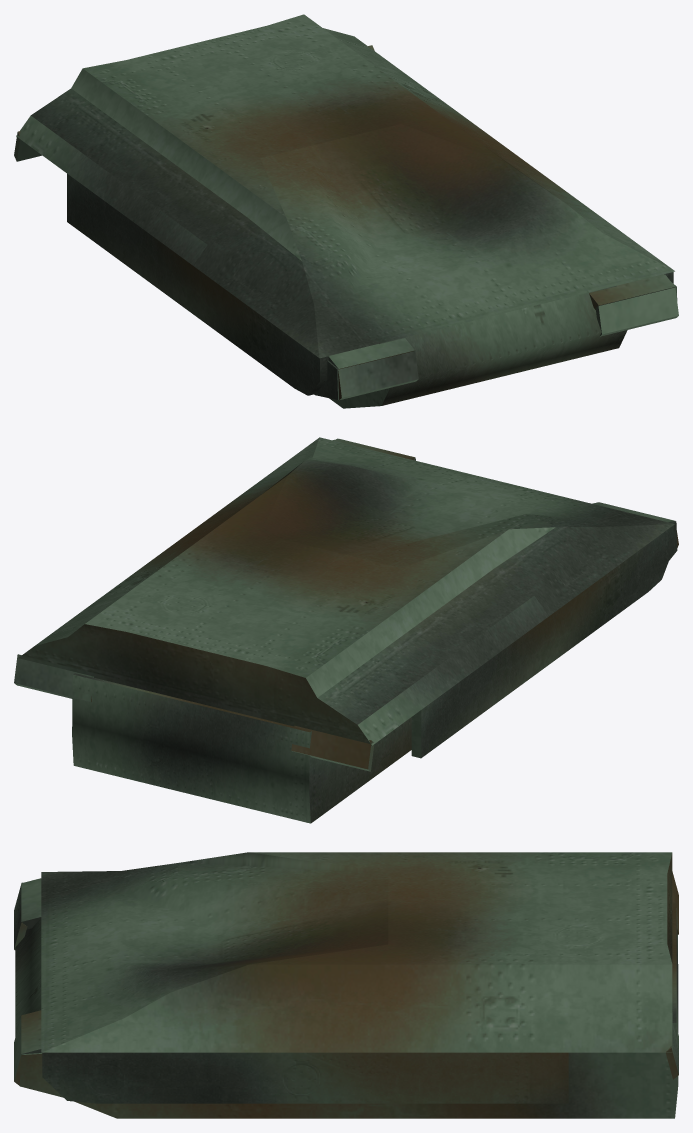
Rendered from challenger2.obj.
The picture shows the model from 3 angles, top to bottom: view 1: azimuth 30°, elevation 25°; view 2: azimuth 150°, elevation 25°; view 3: azimuth 270°, elevation 25°; orthographic projection. The views are drawn at different scales.
Visible parts, largest first — view 1: Box002, Box001, Box003, Box009, Box007, Box008, Box005; view 2: Box002, Box001, Box003, Box013, Box012; view 3: Box002, Box004, Box001, Box011, Box005, Box008, Box007, Box012, Box009.
Boxes of the visible parts, x1,y1,x2,y2 form: Box002: (16, 14, 674, 358); Box001: (329, 285, 627, 408); Box003: (67, 174, 329, 395); Box009: (595, 287, 678, 336); Box007: (338, 350, 418, 400); Box008: (589, 274, 674, 309); Box005: (328, 338, 414, 369); Box002: (18, 437, 674, 745); Box001: (72, 673, 411, 823); Box003: (411, 525, 673, 758); Box013: (291, 725, 374, 771); Box012: (14, 654, 93, 702); Box002: (41, 852, 672, 1052); Box004: (42, 1052, 568, 1103); Box001: (15, 902, 678, 1118); Box011: (19, 1053, 62, 1097); Box005: (21, 878, 41, 929); Box008: (21, 1010, 41, 1054); Box007: (14, 884, 27, 949); Box012: (666, 1012, 678, 1079); Box009: (14, 1016, 21, 1085).
Size of the model in its own units: 19.72 by 7.59 by 30.67.
